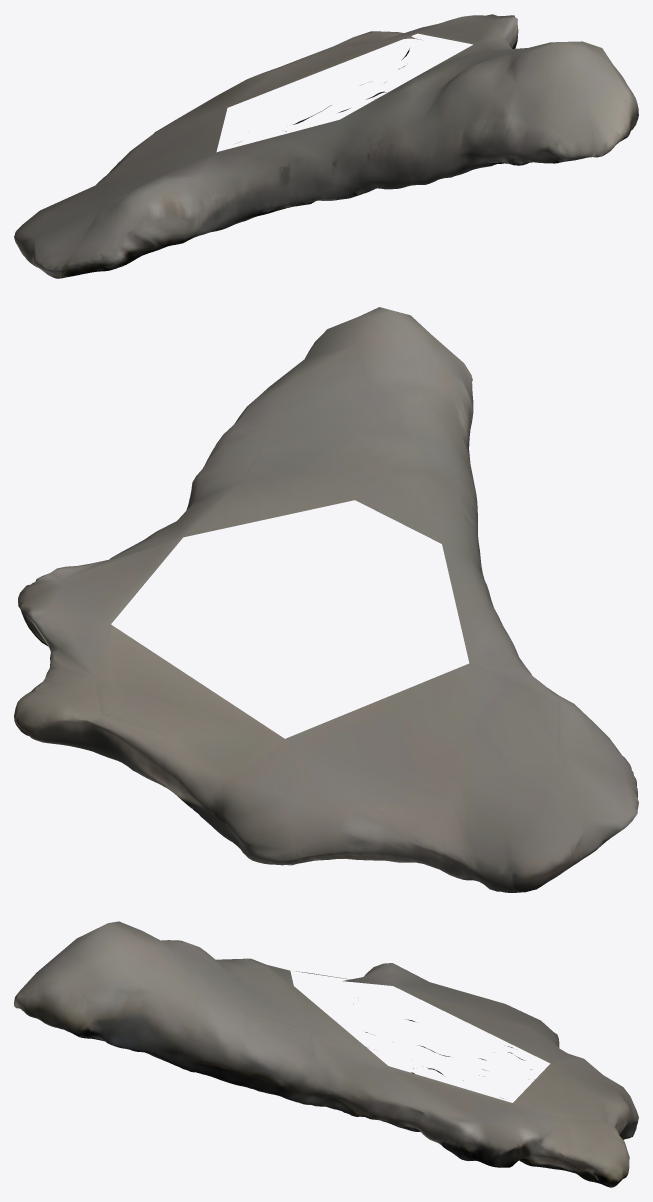
The picture shows the model from 3 angles, top to bottom: view 1: azimuth 30°, elevation 25°; view 2: azimuth 150°, elevation 25°; view 3: azimuth 270°, elevation 25°; orthographic projection. The views are drawn at different scales.
Bounding box in the file's own units: 0.6132 × 0.3277 × 0.631.
Materials: 1 (1 with a texture image).
